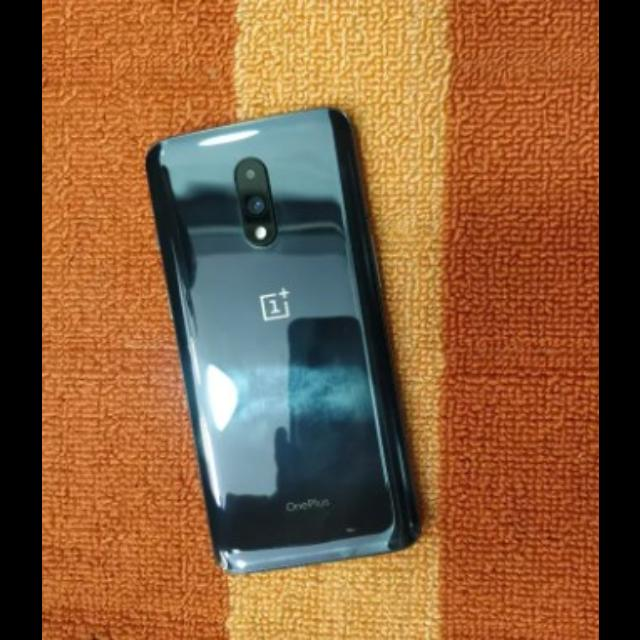Smartphone: (143, 107, 425, 578)
